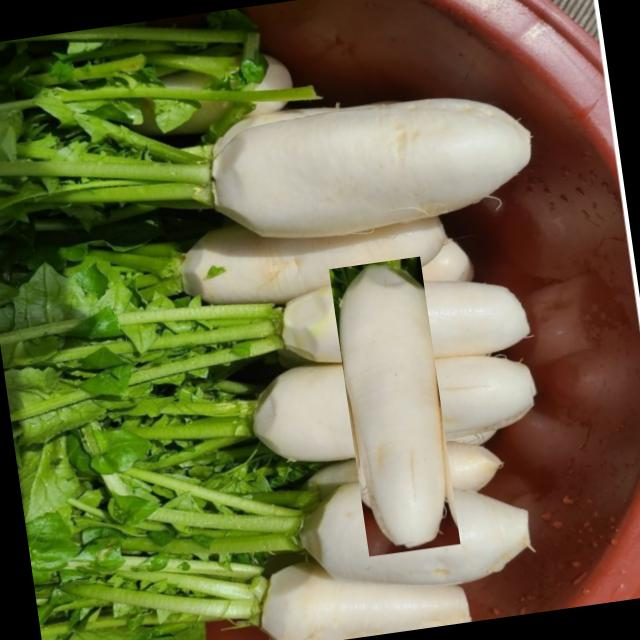radish: (287, 298, 503, 514)
